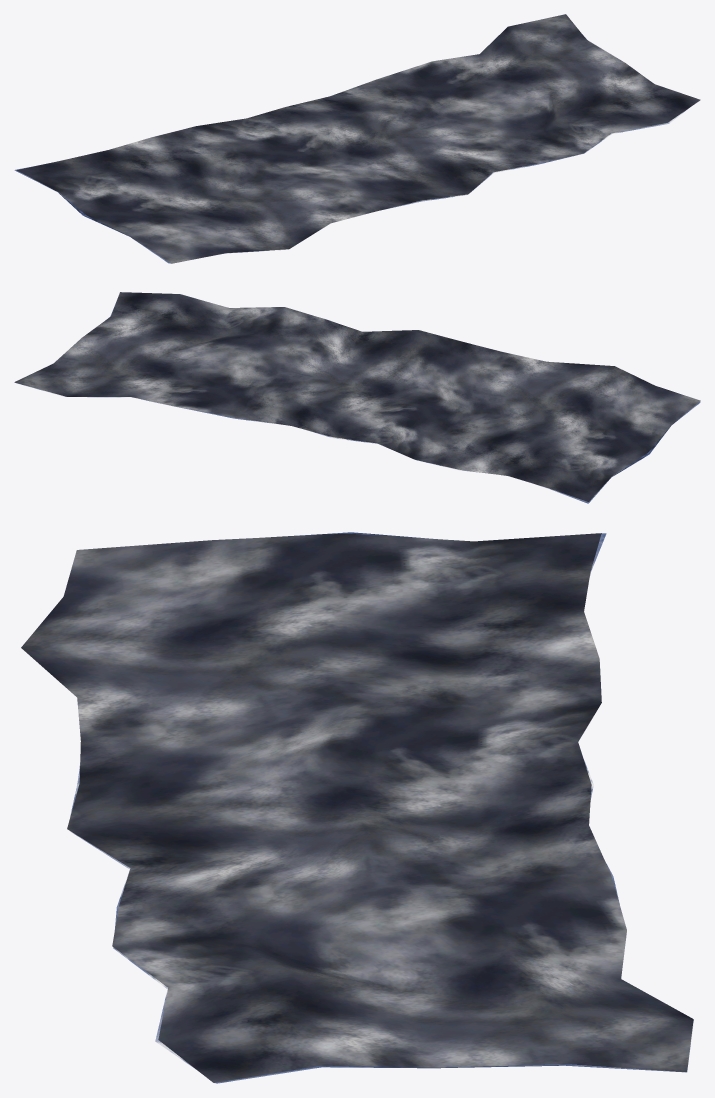
The model's file is EKH_ENTRANCE_WATER_EN_WATER_02.fbx.
3 views of the same model, one above another, from view 1: azimuth 30°, elevation 25°; view 2: azimuth 150°, elevation 25°; view 3: azimuth 270°, elevation 25° (orthographic). The views are drawn at different scales.
Visible parts, largest first — view 1: EKH_ENTRANCE_WATER_EN_WATER_02; view 2: EKH_ENTRANCE_WATER_EN_WATER_02; view 3: EKH_ENTRANCE_WATER_EN_WATER_02.
Part boxes in pixels (left/top/right/bottom): EKH_ENTRANCE_WATER_EN_WATER_02: left=14, top=14, right=700, bottom=263; EKH_ENTRANCE_WATER_EN_WATER_02: left=14, top=292, right=700, bottom=503; EKH_ENTRANCE_WATER_EN_WATER_02: left=21, top=532, right=693, bottom=1083.
Size of the model in its own units: 203177 by 1874 by 104509.
2 materials, 2 textured.
